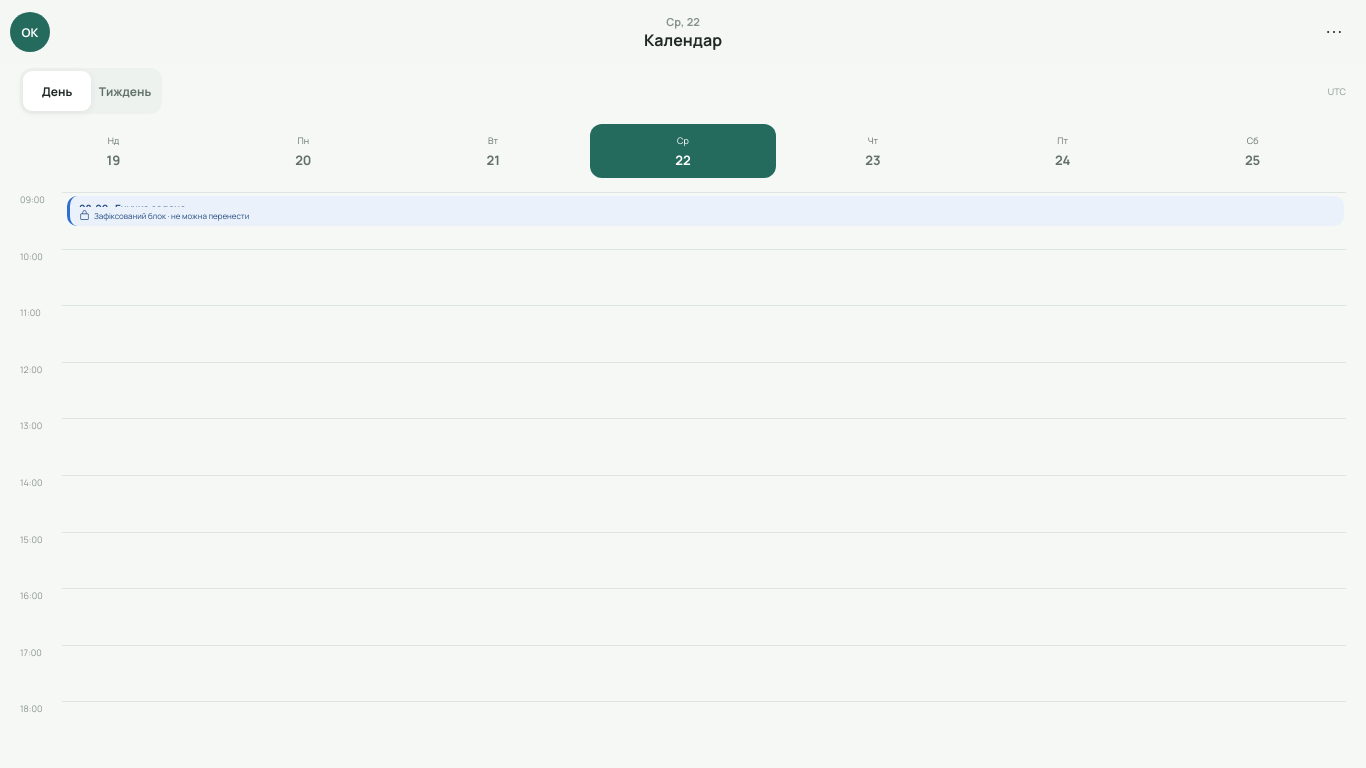
Test case: keeps server-locked app tasks immutable and uses live week counts
Click the button "Тиждень" at [125, 91], box [91,71,159,111]
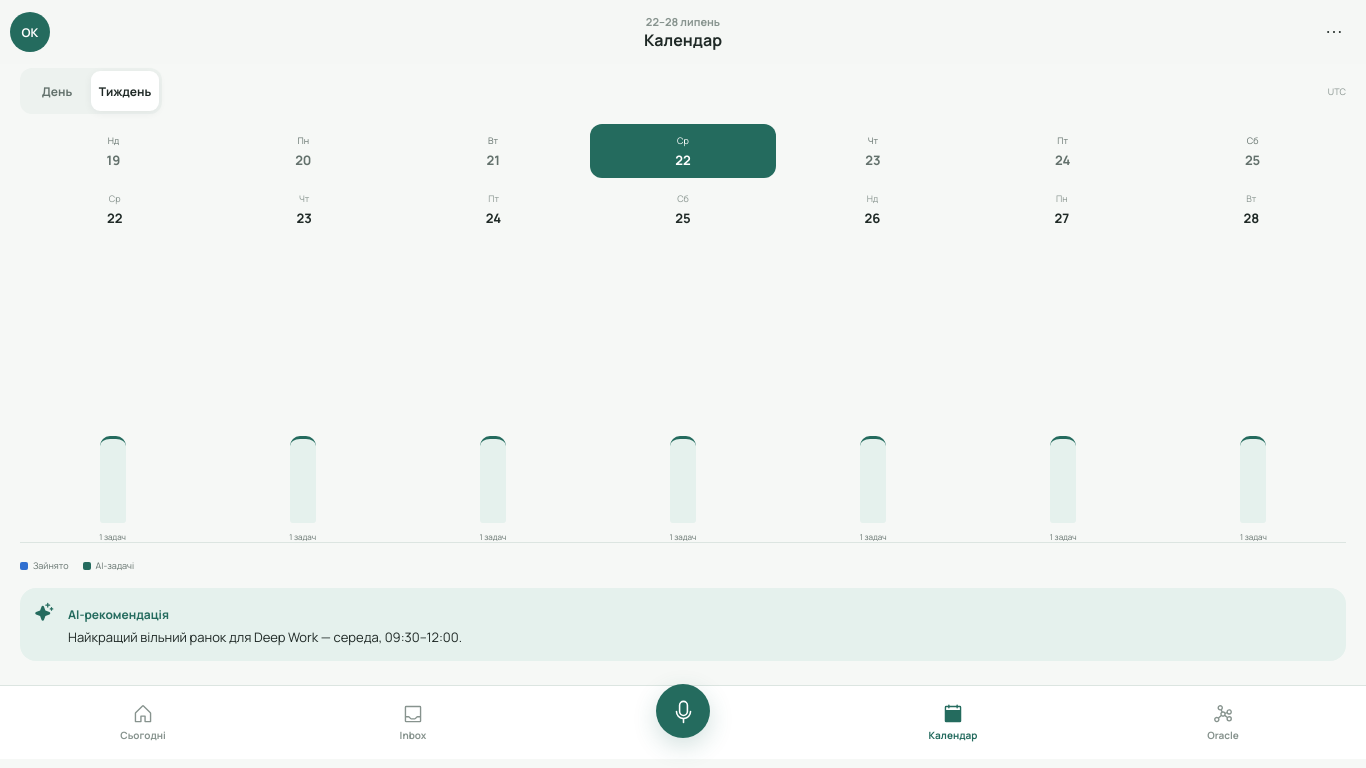
expect the 1st text "1 задач" is shown: met, box [99,531,126,542]
